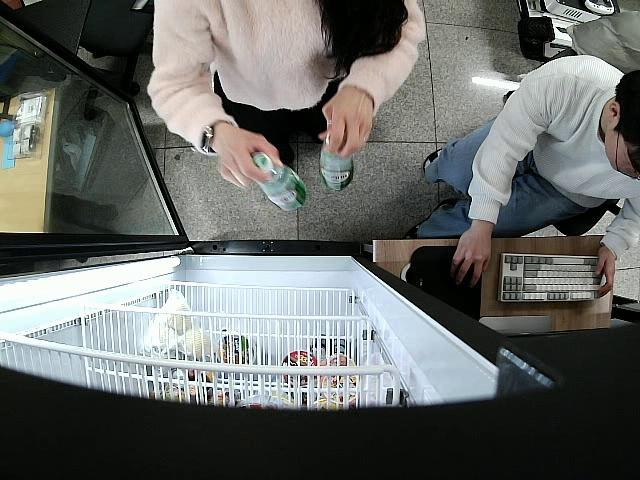00_hand: (215, 129, 284, 191), (320, 91, 374, 158), (453, 230, 492, 289)
18_trevi: (253, 151, 308, 214), (319, 133, 356, 193)
